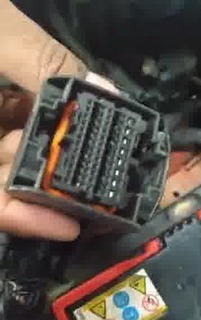connector: (4, 76, 171, 233)
